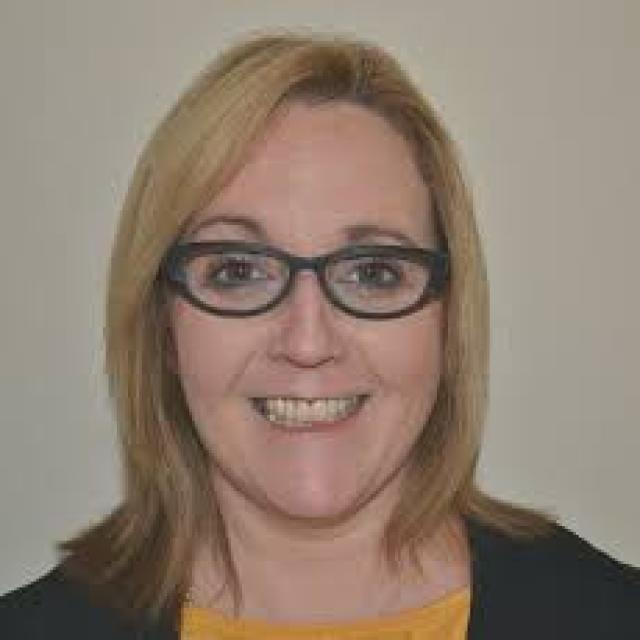normal_face: (143, 78, 486, 536)
